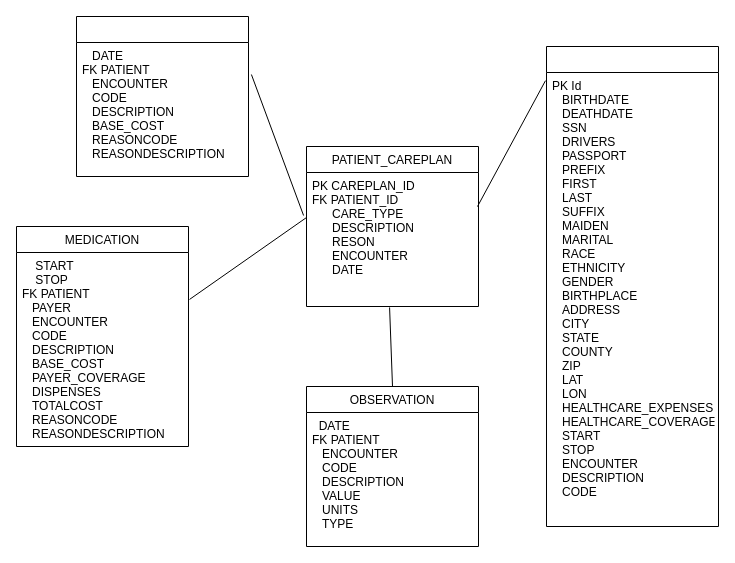
Image size: 735x563. Some labels were removed from this diagram. The shapes that lost their labels are listed below. From the top down, each one's box as (x1, y1, x2, y2) in pixels, then its label:
(76, 16, 248, 176): PROCEDURE
(546, 46, 718, 526): PATIENT
